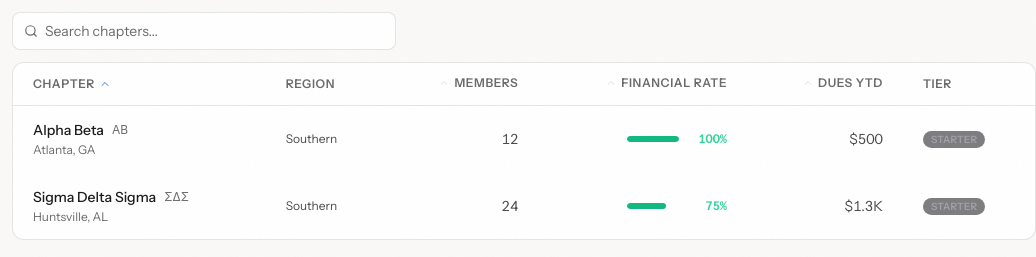
it: ChapterHealthTable › filters by search term
Type "alpha" into the field with placeholder "Search chapters...". click: (204, 31)
box: [12,12,396,50]
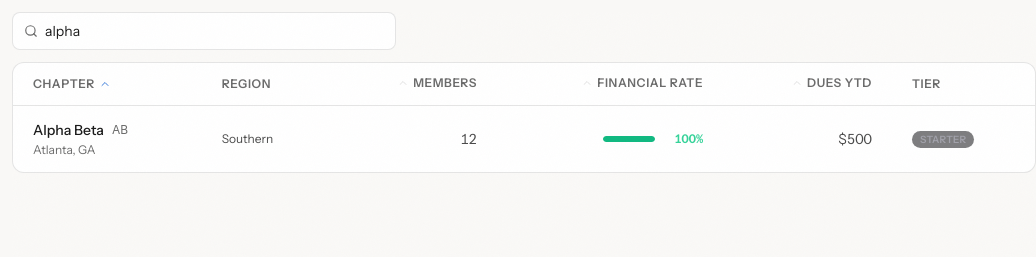
Check: the text "Alpha Beta" is shown, box [33,120,104,140]
Check: the text "Sigma Delta Sigma" is gone
